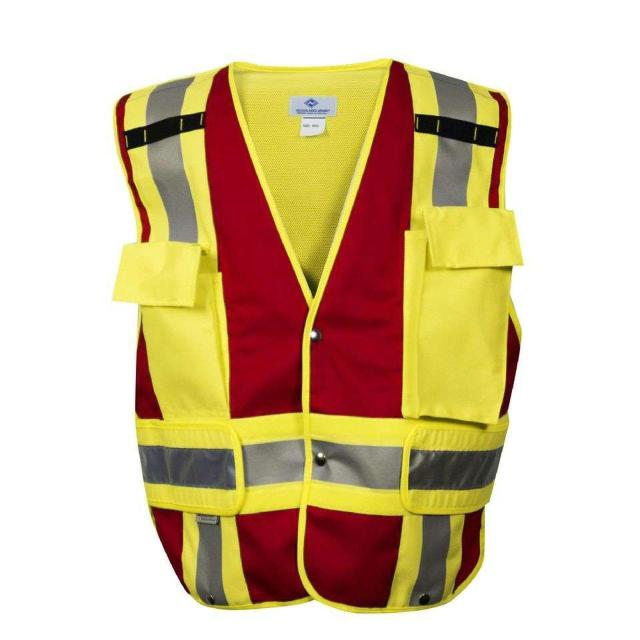Vest: (113, 62, 523, 612)
